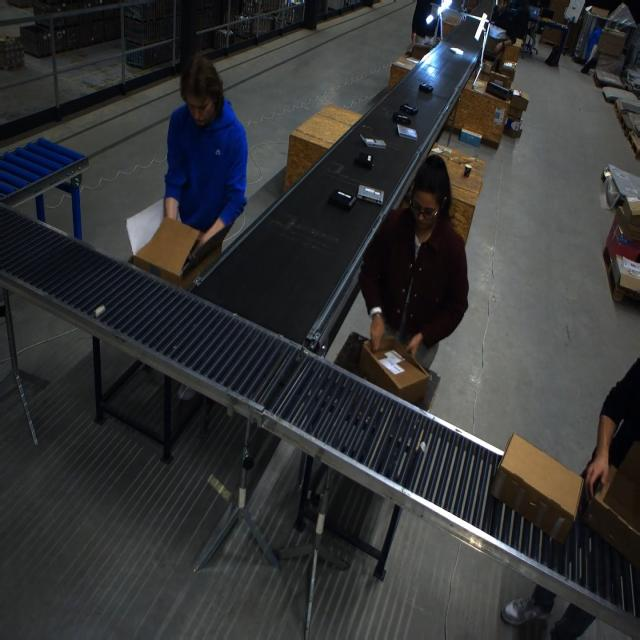box: (489, 434, 583, 544), (584, 440, 640, 569), (129, 216, 223, 290), (359, 335, 427, 405), (613, 200, 640, 246), (597, 28, 625, 56), (499, 40, 520, 68), (507, 87, 528, 114), (541, 23, 564, 46), (487, 71, 509, 91), (503, 117, 523, 138), (481, 60, 496, 77), (589, 6, 609, 18)
product: (328, 189, 356, 210), (357, 184, 384, 205), (359, 134, 385, 148), (354, 152, 374, 170), (396, 125, 417, 140), (392, 112, 411, 124), (400, 103, 418, 115), (418, 83, 434, 93), (448, 47, 463, 56)
